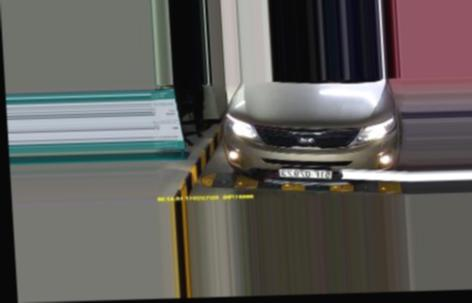License_Plate: (276, 165, 333, 179)
